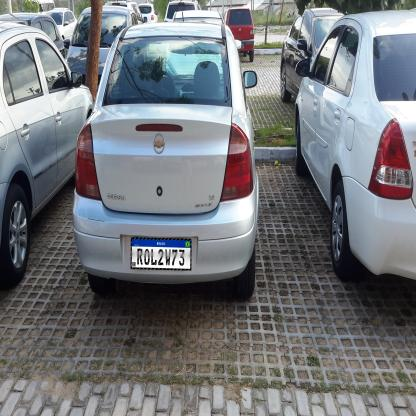PlacaM: (130, 237, 192, 271)
